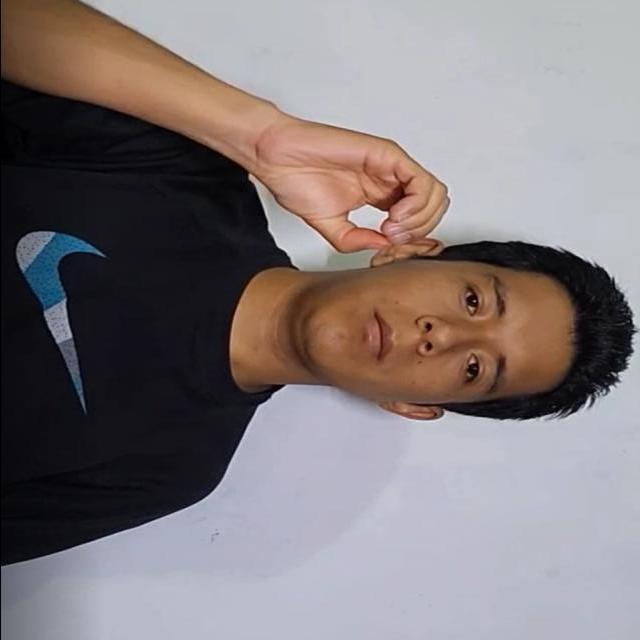O: (228, 114, 469, 266)
